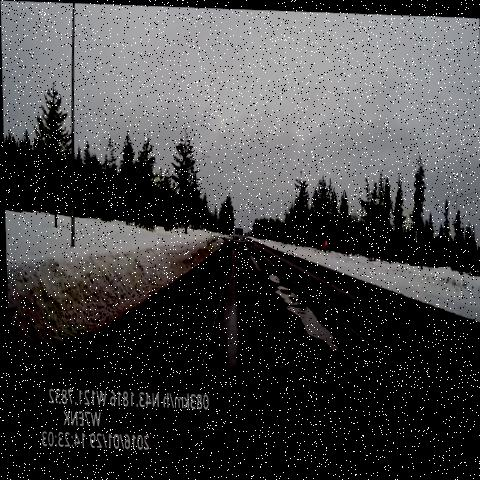pothole: (263, 264, 353, 381), (243, 236, 262, 261)
